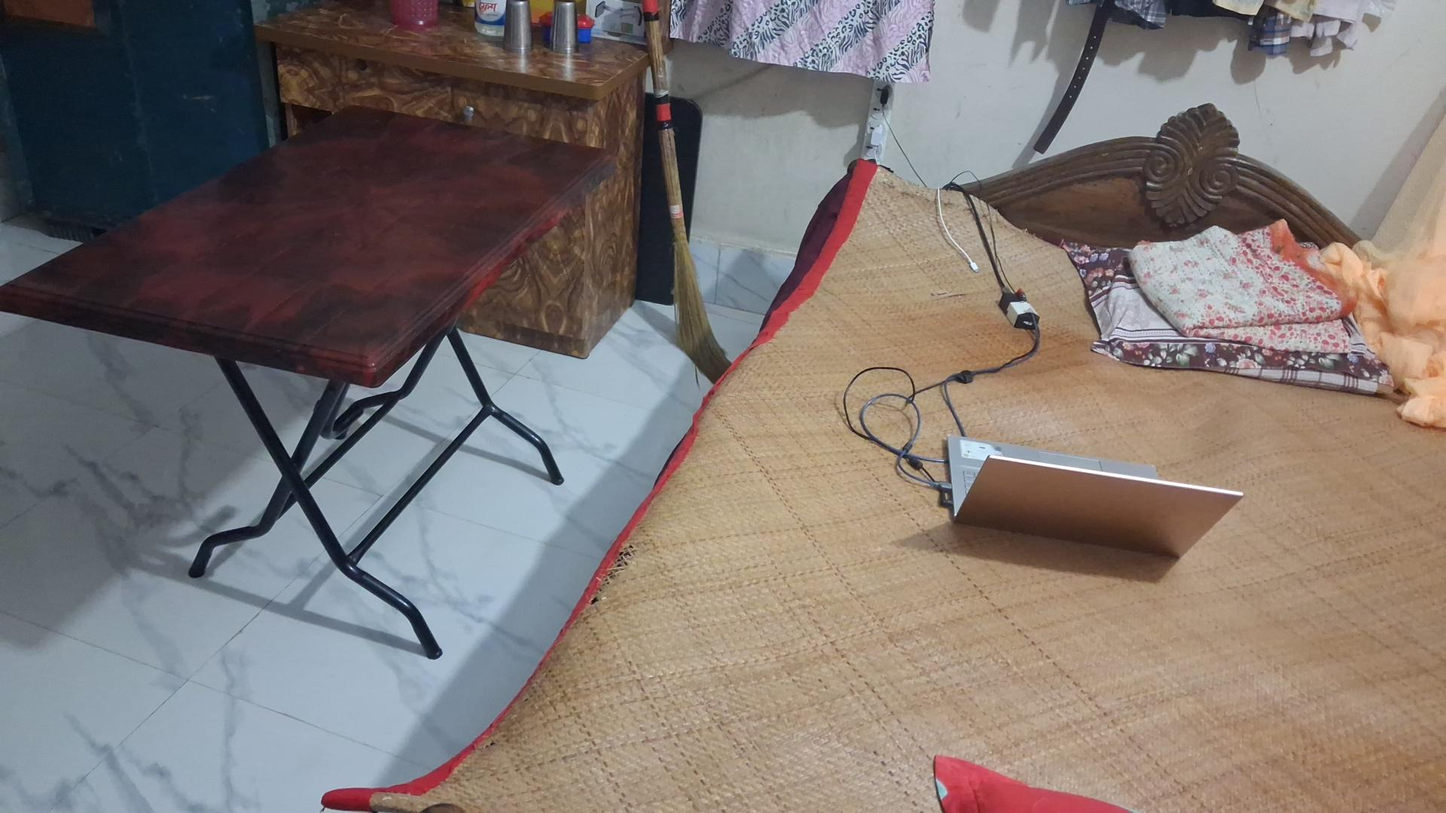Blanket: (1121, 217, 1363, 345)
Glass: (500, 0, 535, 53), (548, 0, 580, 53)
Laptop: (944, 428, 1245, 564)
Mop: (640, 0, 738, 382)
Table: (0, 104, 608, 652)
